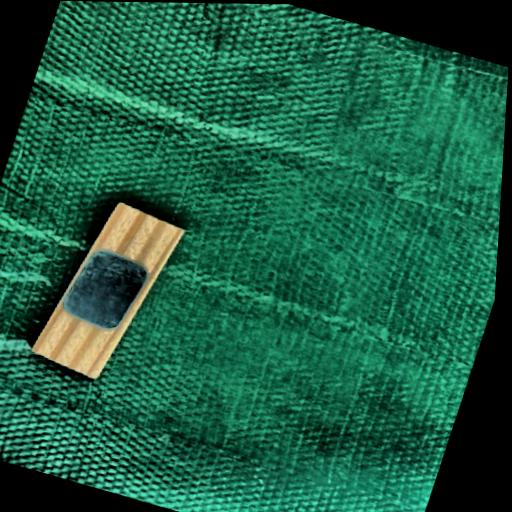objects: (30, 195, 183, 386)
